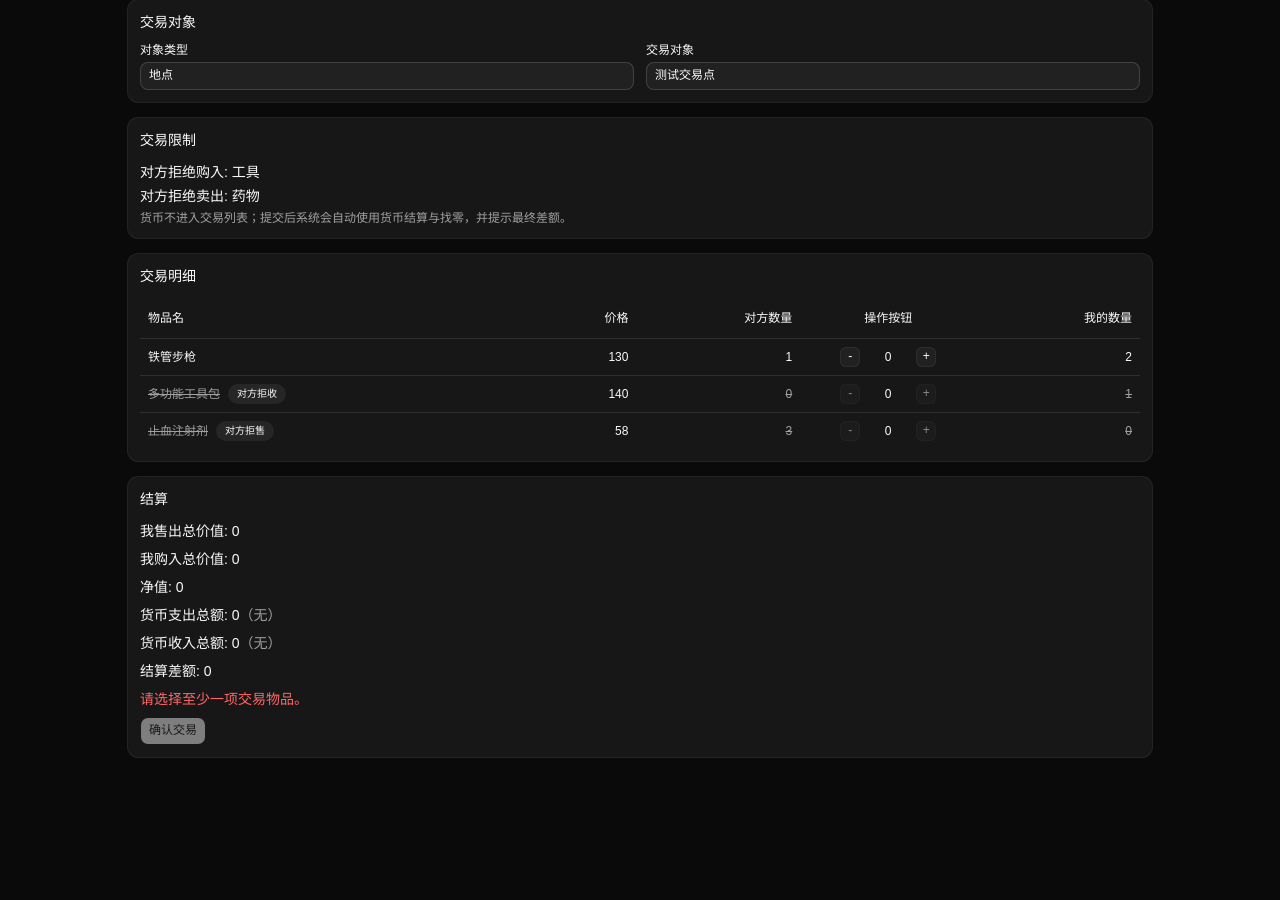
it: TradePanel › increases net quantity and caps at target quantity
Click the button named "增加铁管步枪" at (926, 356), box [916,346,936,366]
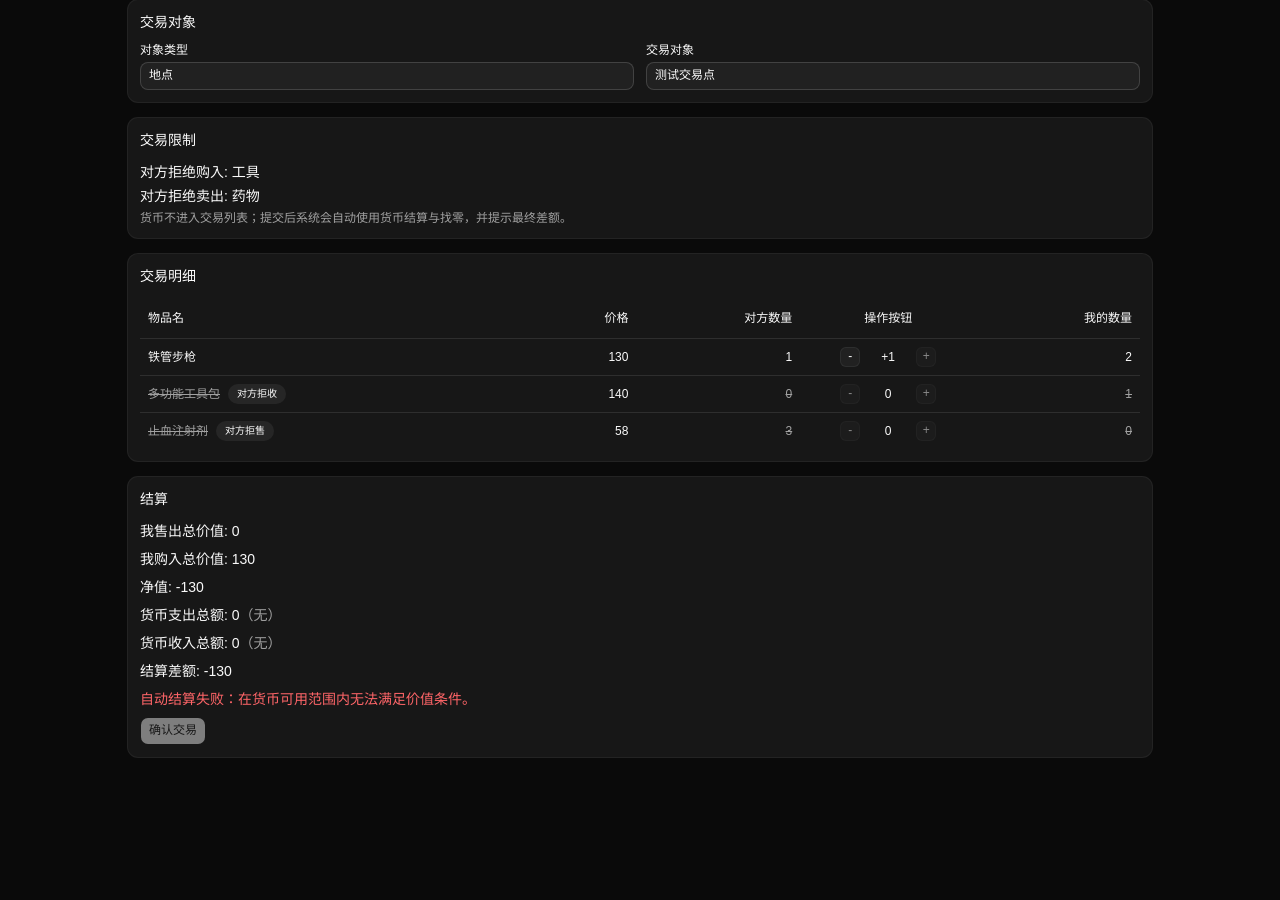
Now the text with test id "trade-net-weapon-1" reads "+1", box [881,350,895,364]
Now the text "我购入总价值: 130" is shown, box [140,550,255,566]
Now the button named "增加铁管步枪" is disabled, box [916,346,936,366]
